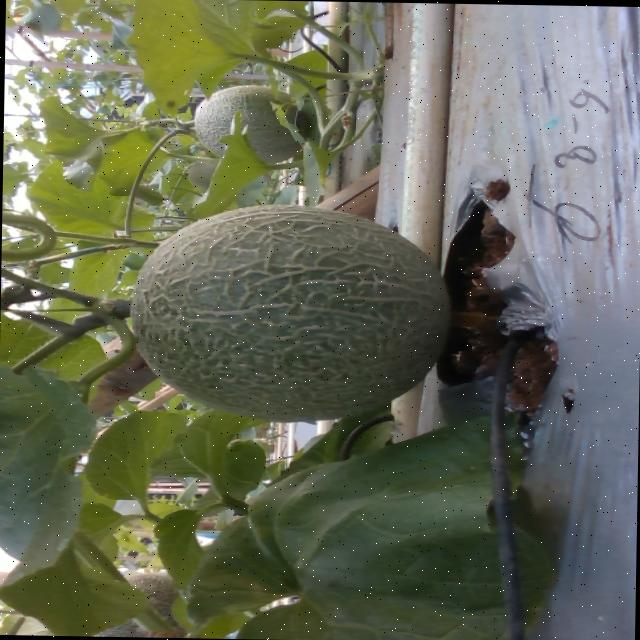melon: (131, 203, 450, 420)
